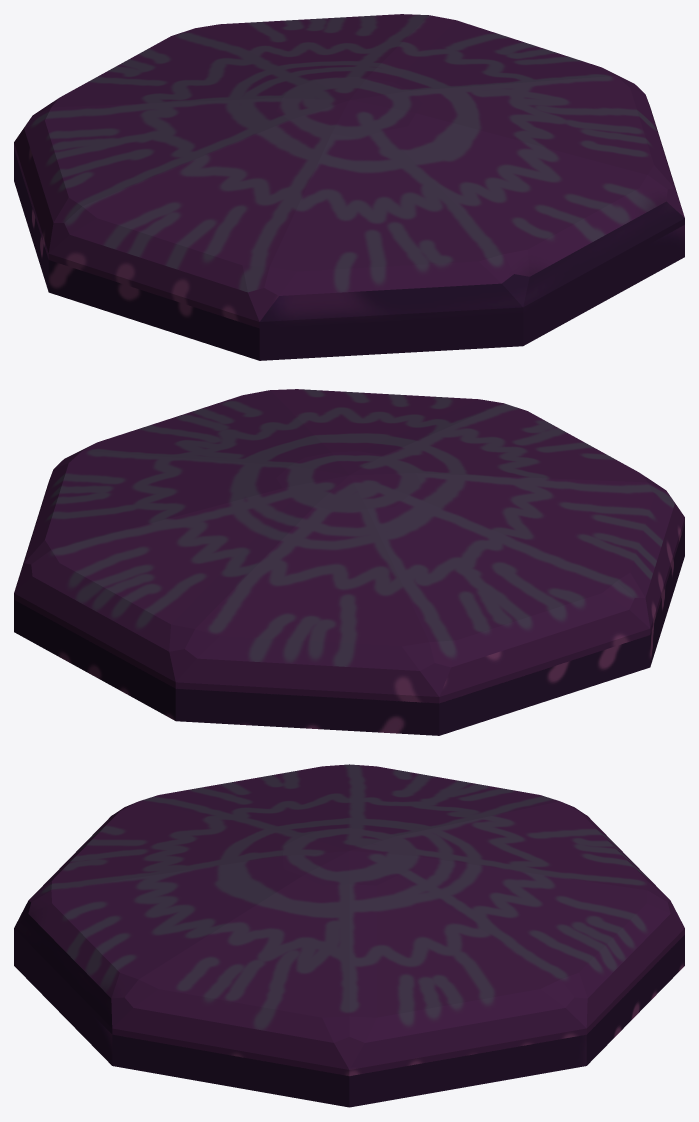
File: Tampa.fbx
3 renders of one model, top to bottom at view 1: azimuth 30°, elevation 25°; view 2: azimuth 150°, elevation 25°; view 3: azimuth 270°, elevation 25°, orthographic. The views are drawn at different scales.
Visible parts, largest first — view 1: Tampa, Aro da Tampa; view 2: Tampa, Aro da Tampa; view 3: Tampa, Aro da Tampa.
Boxes of the visible parts, <box> form: Tampa: <box>14,14,684,328</box>; Aro da Tampa: <box>14,149,684,360</box>; Tampa: <box>14,389,684,703</box>; Aro da Tampa: <box>14,524,684,735</box>; Tampa: <box>14,764,684,1076</box>; Aro da Tampa: <box>14,935,684,1107</box>.
Size of the model in its own units: 135 by 135 by 25.41.
